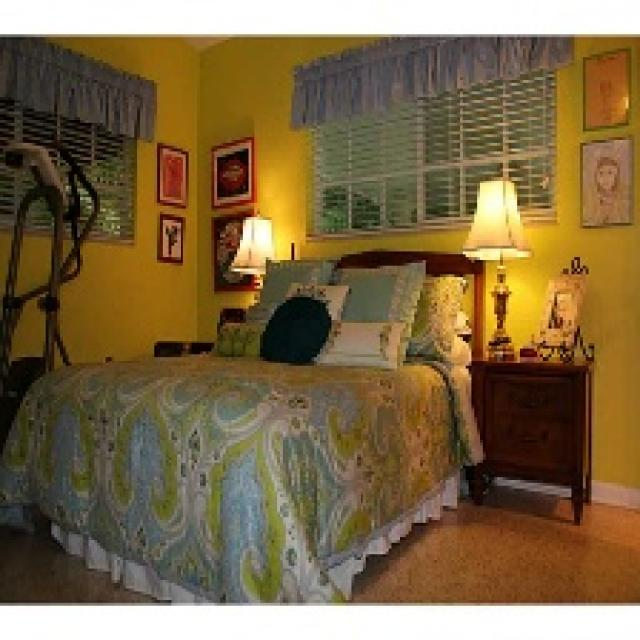Bed: (0, 246, 486, 603)
